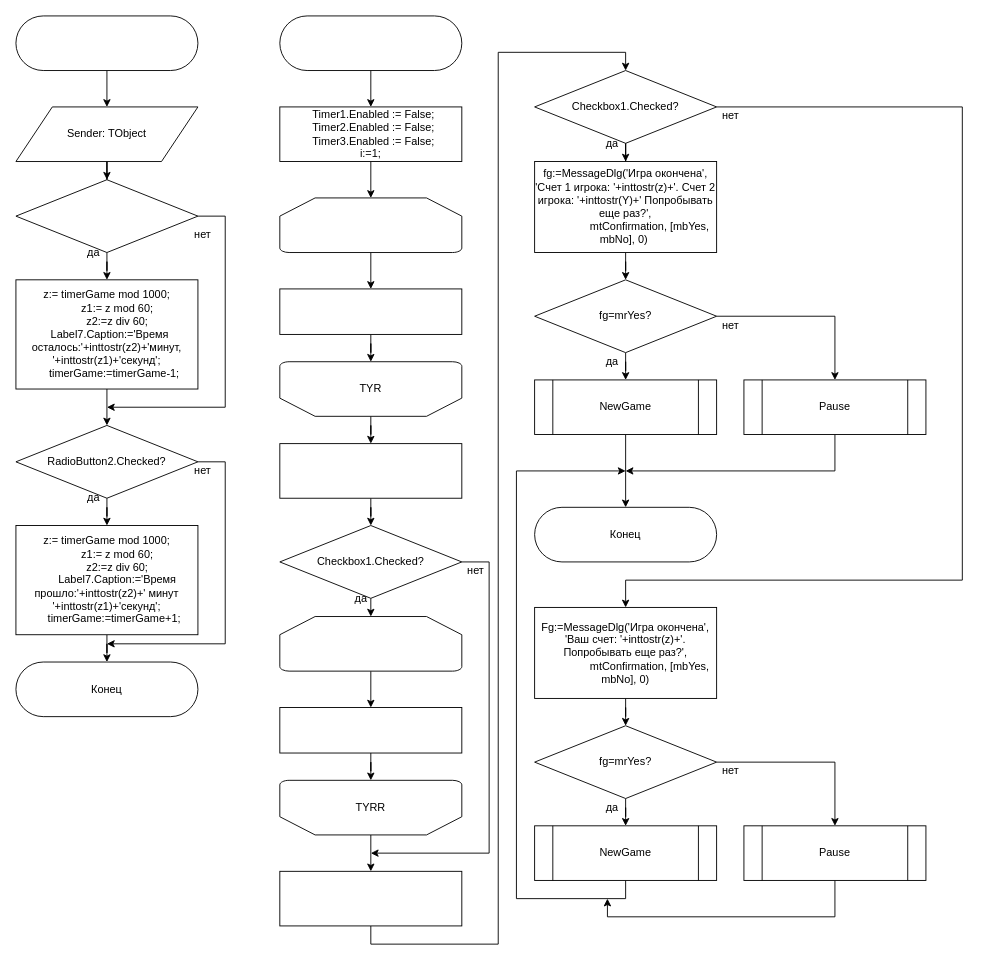
Some shapes in this 986 by 967 pixel diagram are drawn without their labels. Each missing label, with the box of its shape:
ATails2[i].Free inc(i);: (279, 707, 462, 753)
ATails[i].Free inc(i);: (279, 288, 462, 334)
RadioButton3.Checked?: (15, 179, 198, 253)
TForm1.GameOver; Начало: (279, 15, 462, 71)
TForm1.Timer3Timer Начало: (15, 15, 198, 71)
TYR i>SnakeLen: (279, 197, 462, 253)
TYRR i>SnakeLen: (279, 616, 462, 671)
Y:=SnakeLen2; SnakeLen2:= 2;: (279, 870, 462, 926)
z:= SnakeLen; SnakeLen := 2; i:=1;: (279, 443, 462, 498)
